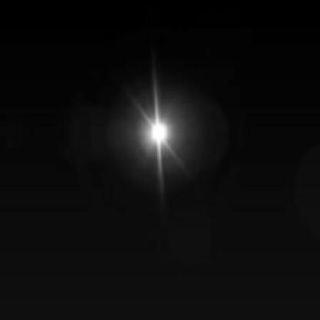other: (140, 99, 182, 153)
